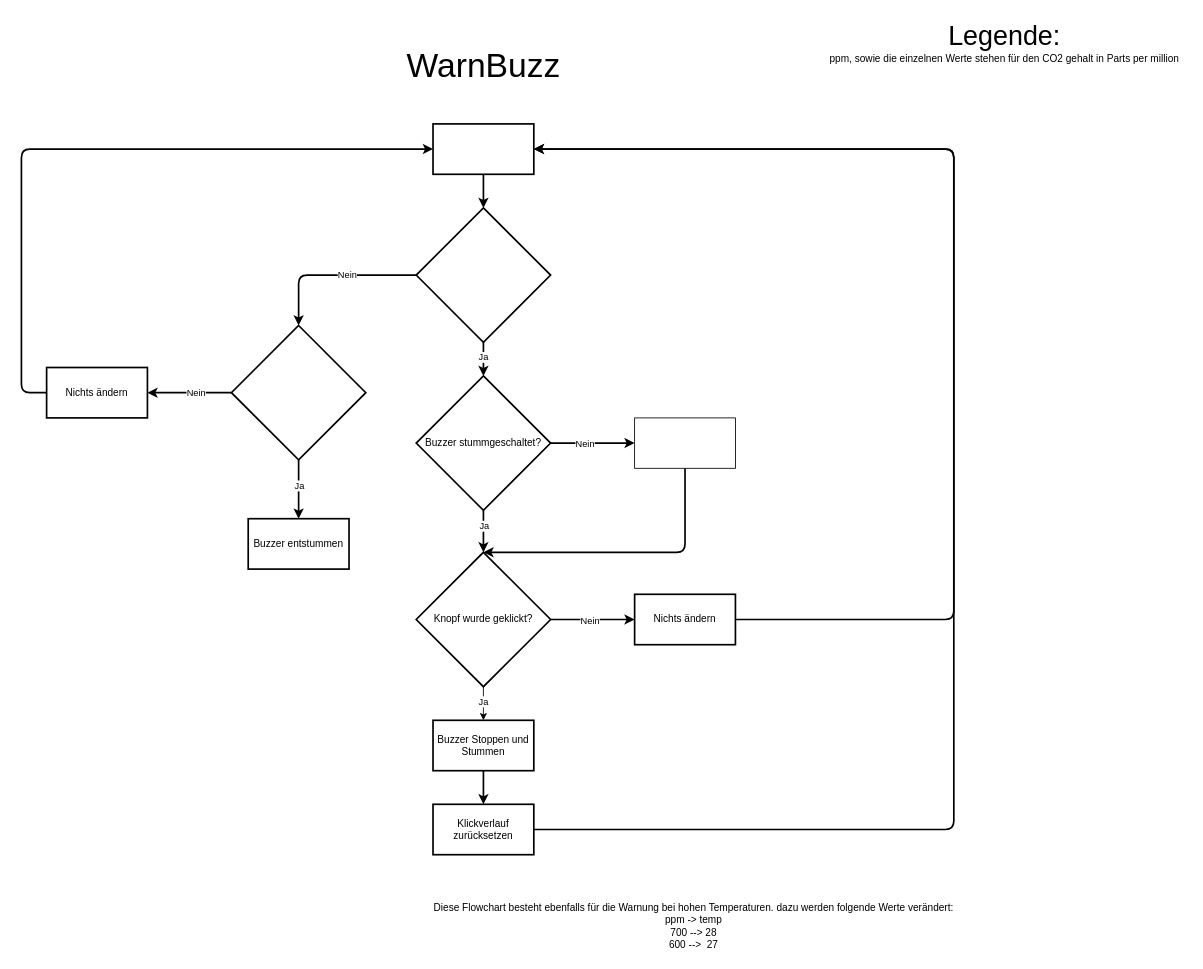
Image size: 1203x969. Some labels were removed from this diagram. Each missing label, with the centre of its shape:
"Buzzer leutet" belongs at [684,442].
"ppm unter 600?" belongs at [298,392].
"ppm wird gemessen" belongs at [483,149].
"ppm über 700" belongs at [483,275].
